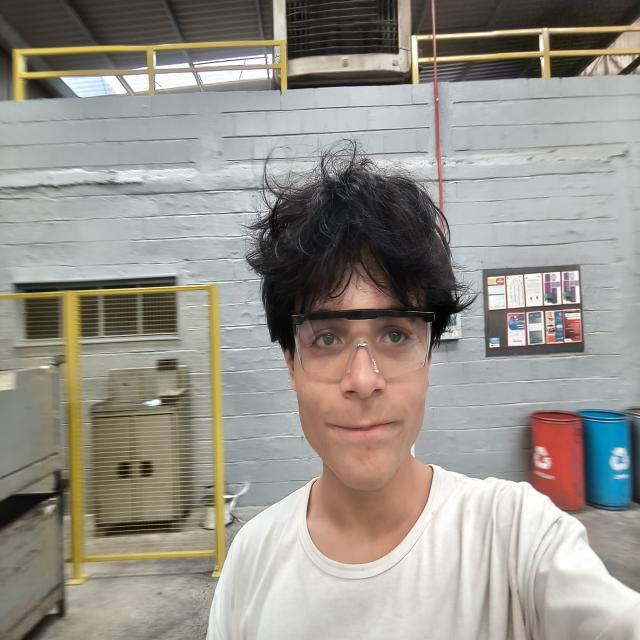oculos-epi: (291, 309, 435, 381)
